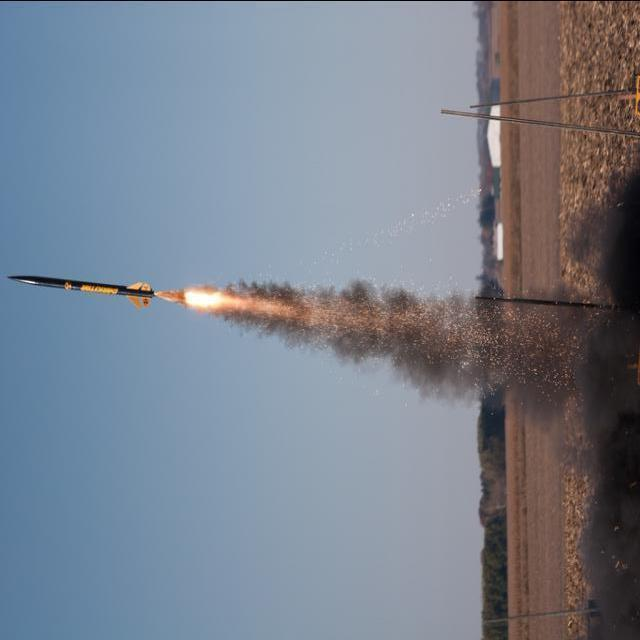missile: (9, 265, 163, 314)
